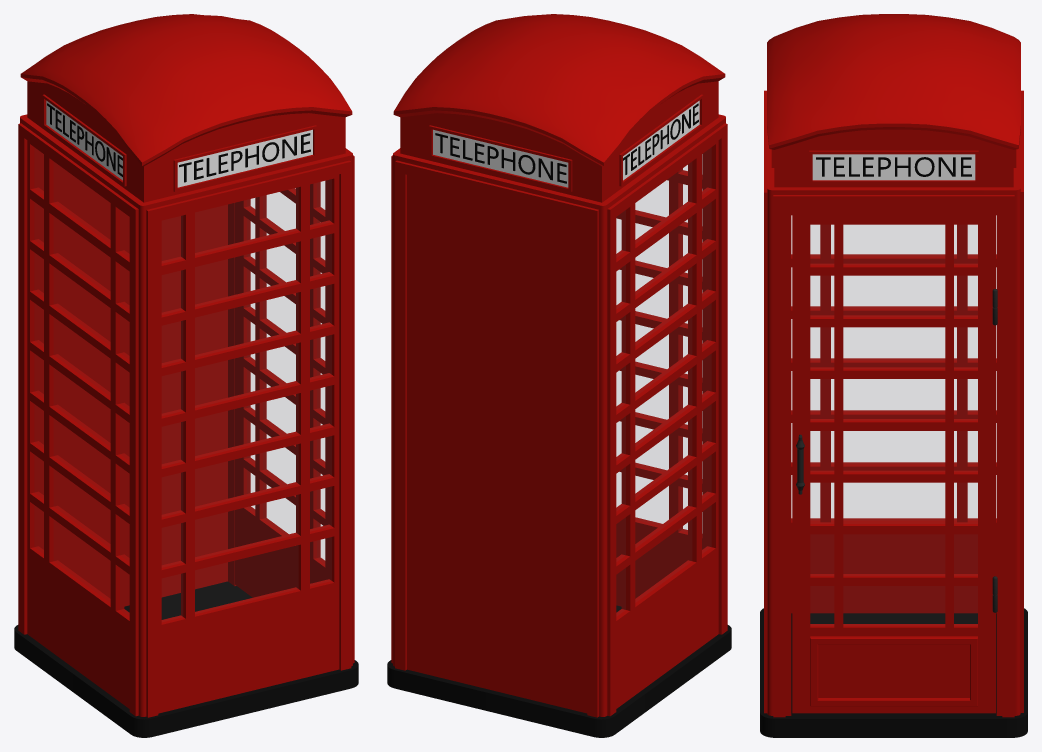
The model's file is phonestation.obj.
3 renders of one model, left to right at view 1: azimuth 30°, elevation 25°; view 2: azimuth 150°, elevation 25°; view 3: azimuth 270°, elevation 25°, orthographic. The views are drawn at different scales.
Parts seen in each view (by area): view 1: Phone_Box, Cube.002, door, Text.001, Text; view 2: Phone_Box, Cube.002, Text.003, Text; view 3: Phone_Box, door, Cube.002, Text.002.
Part boxes in pixels (x1=…): Phone_Box: x1=14, y1=114, x2=358, y2=737; Cube.002: x1=20, y1=14, x2=352, y2=202; door: x1=235, y1=180, x2=329, y2=597; Text.001: x1=179, y1=133, x2=310, y2=182; Text: x1=47, y1=103, x2=122, y2=176; Phone_Box: x1=387, y1=114, x2=731, y2=737; Cube.002: x1=393, y1=14, x2=725, y2=202; Text.003: x1=435, y1=133, x2=566, y2=183; Text: x1=623, y1=103, x2=698, y2=174; Phone_Box: x1=760, y1=90, x2=1027, y2=737; door: x1=792, y1=209, x2=995, y2=713; Cube.002: x1=767, y1=14, x2=1020, y2=187; Text.002: x1=816, y1=157, x2=971, y2=176.
Bounding box in the file's own units: 2.27 × 5.93 × 2.24.
